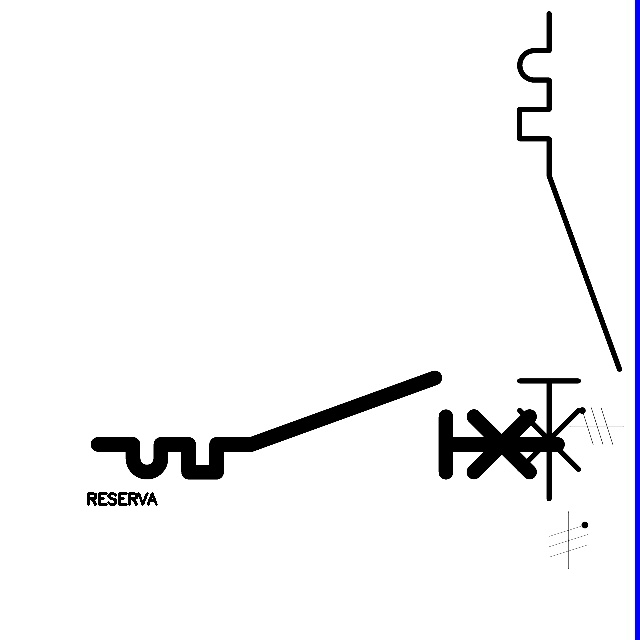interruptor_termomagnetico: (507, 1, 632, 511), (86, 366, 569, 484)
